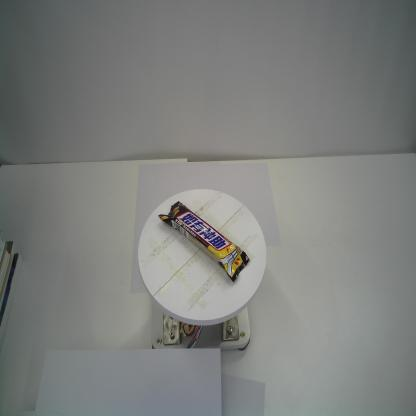Chocolate: (158, 201, 250, 283)
